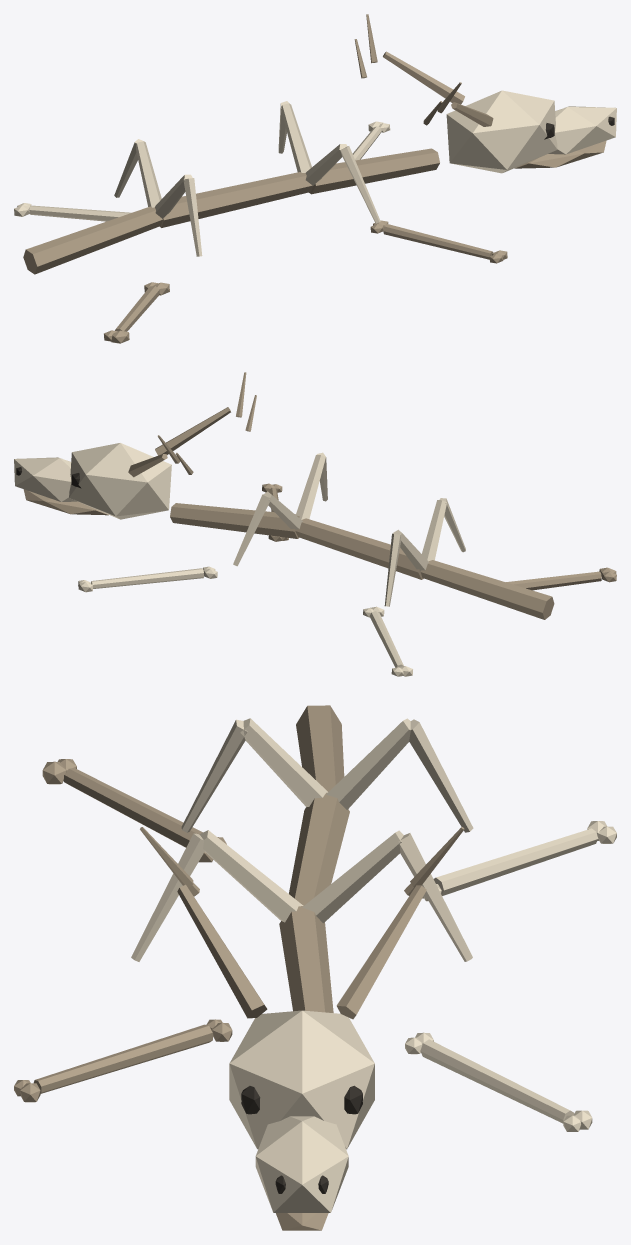
Rendered from dead_carcass_01.glb.
3 renders of one model, top to bottom at view 1: azimuth 30°, elevation 25°; view 2: azimuth 150°, elevation 25°; view 3: azimuth 270°, elevation 25°, orthographic. The views are drawn at different scales.
Parts seen in each view (by area): view 1: dead_carcass_01_skull_skull_cranium, dead_carcass_01_spine_1, dead_carcass_01_spine_2, dead_carcass_01_spine_3, dead_carcass_01_skull_skull_snout, dead_carcass_01_leg_3_shaft, dead_carcass_01_leg_2_shaft, dead_carcass_01_rib_2_r_upper, dead_carcass_01_skull_skull_jaw, dead_carcass_01_rib_1_r_upper, dead_carcass_01_skull_antler_r_main, dead_carcass_01_rib_2_l_lower (+6 smaller); view 2: dead_carcass_01_skull_skull_cranium, dead_carcass_01_spine_1, dead_carcass_01_spine_2, dead_carcass_01_spine_3, dead_carcass_01_skull_skull_snout, dead_carcass_01_leg_4_shaft, dead_carcass_01_leg_1_shaft, dead_carcass_01_rib_2_l_upper, dead_carcass_01_skull_skull_jaw, dead_carcass_01_rib_1_l_upper, dead_carcass_01_skull_antler_l_main, dead_carcass_01_rib_2_r_lower (+4 smaller); view 3: dead_carcass_01_skull_skull_cranium, dead_carcass_01_skull_skull_snout, dead_carcass_01_spine_3, dead_carcass_01_spine_2, dead_carcass_01_leg_3_shaft, dead_carcass_01_spine_1, dead_carcass_01_leg_2_shaft, dead_carcass_01_leg_4_shaft, dead_carcass_01_leg_1_shaft, dead_carcass_01_rib_2_l_upper, dead_carcass_01_rib_2_r_upper, dead_carcass_01_skull_antler_r_main (+8 smaller).
Boxes of the visible parts, <box> form: dead_carcass_01_skull_skull_cranium: <box>446,90,557,173</box>; dead_carcass_01_spine_1: <box>23,206,162,274</box>; dead_carcass_01_spine_2: <box>159,172,312,227</box>; dead_carcass_01_spine_3: <box>309,148,439,194</box>; dead_carcass_01_skull_skull_snout: <box>548,106,616,154</box>; dead_carcass_01_leg_3_shaft: <box>383,223,493,259</box>; dead_carcass_01_leg_2_shaft: <box>29,205,131,221</box>; dead_carcass_01_rib_2_r_upper: <box>280,103,311,172</box>; dead_carcass_01_skull_skull_jaw: <box>514,140,606,168</box>; dead_carcass_01_rib_1_r_upper: <box>136,141,161,207</box>; dead_carcass_01_skull_antler_r_main: <box>383,51,464,104</box>; dead_carcass_01_rib_2_l_lower: <box>340,146,380,223</box>; dead_carcass_01_skull_skull_cranium: <box>69,443,171,519</box>; dead_carcass_01_spine_1: <box>421,560,554,619</box>; dead_carcass_01_spine_2: <box>295,518,423,579</box>; dead_carcass_01_spine_3: <box>170,503,299,538</box>; dead_carcass_01_skull_skull_snout: <box>14,457,77,501</box>; dead_carcass_01_leg_4_shaft: <box>91,568,203,588</box>; dead_carcass_01_leg_1_shaft: <box>506,571,601,590</box>; dead_carcass_01_rib_2_l_upper: <box>296,455,325,519</box>; dead_carcass_01_skull_skull_jaw: <box>23,489,108,515</box>; dead_carcass_01_rib_1_l_upper: <box>422,500,446,561</box>; dead_carcass_01_skull_antler_l_main: <box>155,407,230,455</box>; dead_carcass_01_rib_2_r_lower: <box>233,494,271,566</box>; dead_carcass_01_skull_skull_cranium: <box>229,1010,374,1149</box>; dead_carcass_01_skull_skull_snout: <box>255,1116,348,1212</box>; dead_carcass_01_spine_3: <box>279,906,333,1012</box>; dead_carcass_01_spine_2: <box>289,792,349,905</box>; dead_carcass_01_leg_3_shaft: <box>33,1024,212,1093</box>; dead_carcass_01_spine_1: <box>296,705,344,791</box>; dead_carcass_01_leg_2_shaft: <box>433,828,598,895</box>; dead_carcass_01_leg_4_shaft: <box>420,1039,574,1123</box>; dead_carcass_01_leg_1_shaft: <box>64,768,202,847</box>; dead_carcass_01_rib_2_l_upper: <box>200,830,303,922</box>; dead_carcass_01_rib_2_r_upper: <box>302,830,403,923</box>; dead_carcass_01_skull_antler_r_main: <box>336,885,426,1019</box>.
Bounding box in the file's own units: 2.77 × 0.7179 × 1.45.
